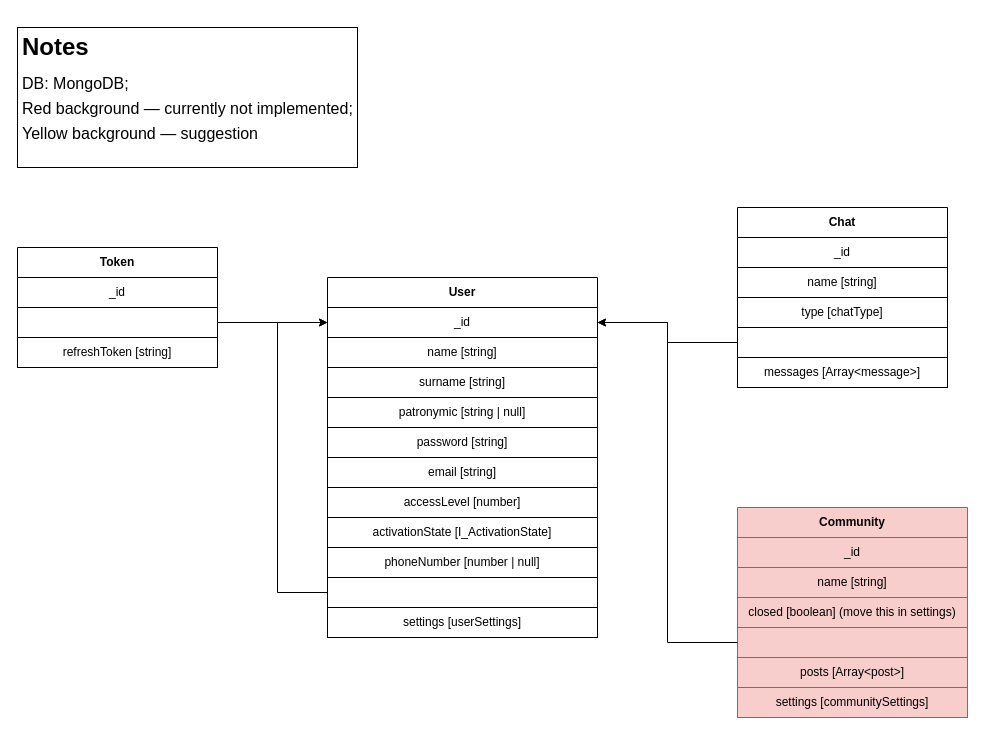
Some shapes in this 985 by 735 pixel diagram are drawn without their labels. Here are the shapes that lost their labels. From the top down, the box of each, then its label:
(16, 306, 218, 338): user [Object.id]
(736, 326, 948, 358): members [Array<chatMember>]
(326, 576, 598, 608): friends [Array<ObjectId>]
(736, 626, 968, 658): members [Array<communityMember>]
